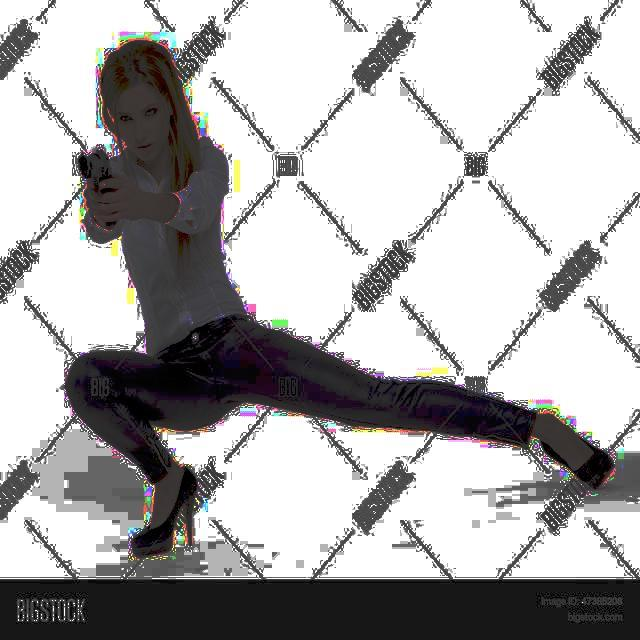Gun: (62, 141, 122, 207)
